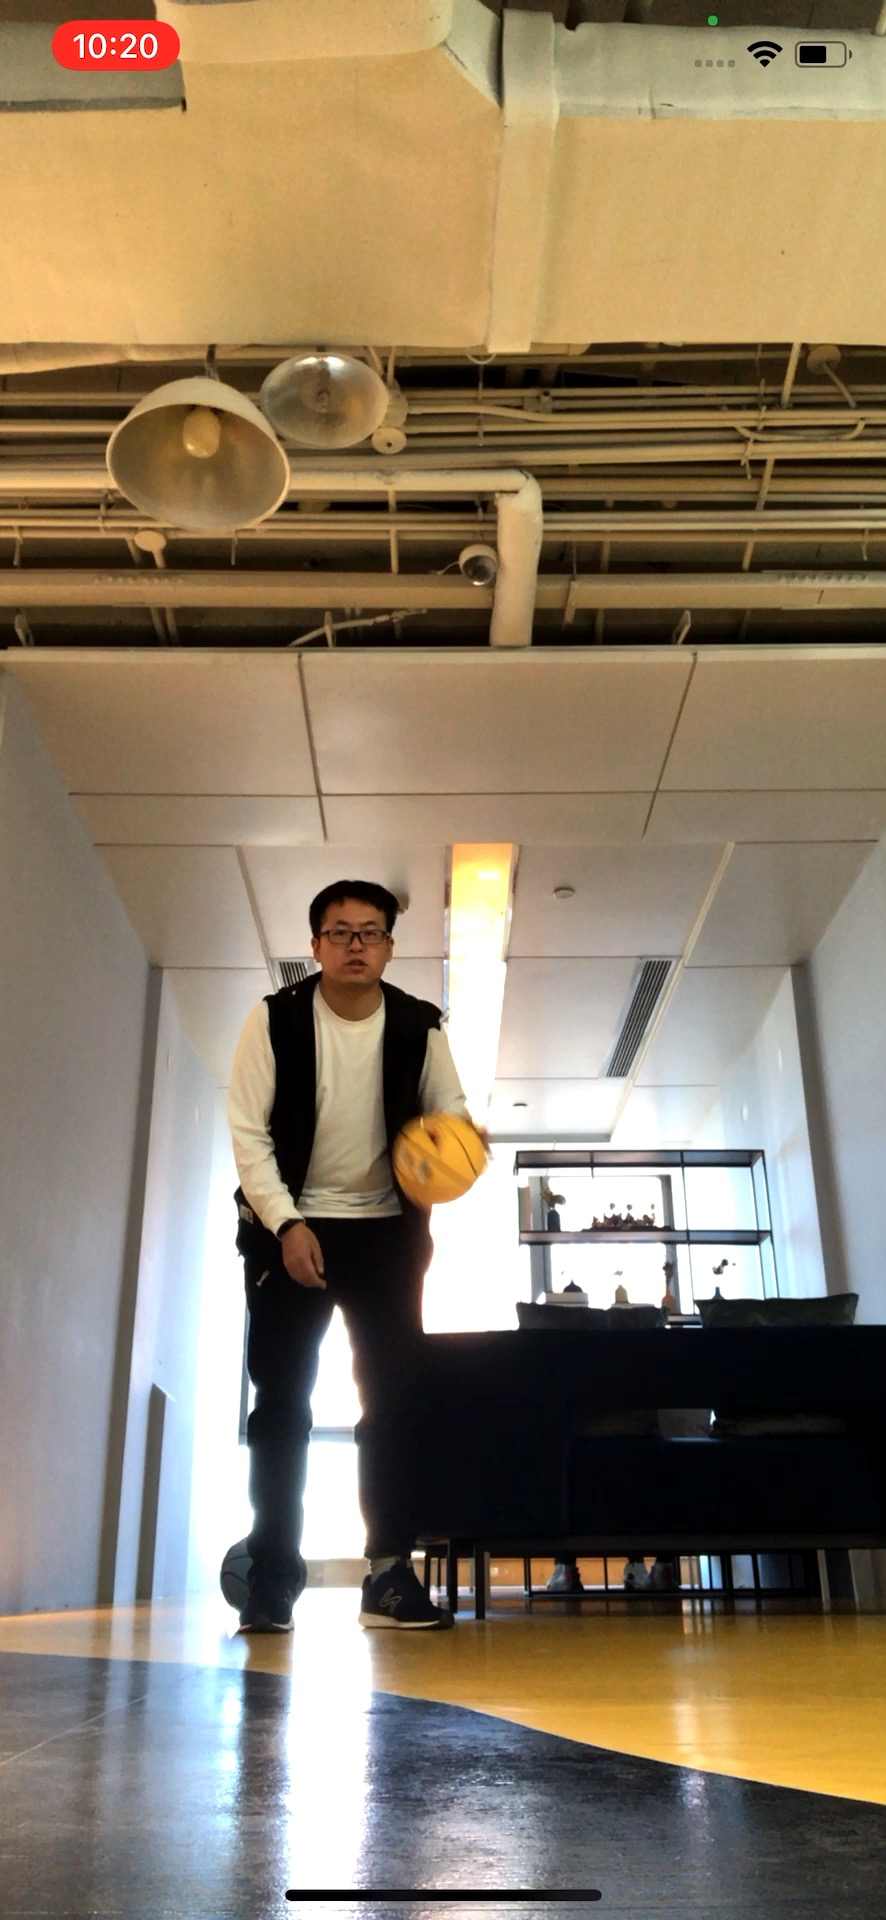ball: (394, 1109, 492, 1213)
